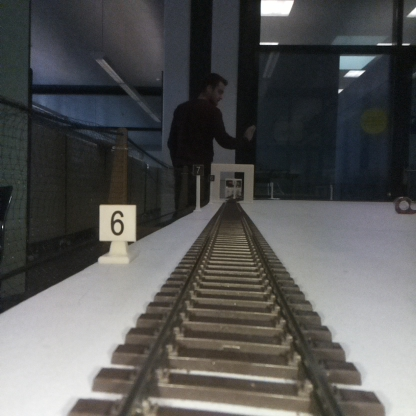black-info-7: (193, 163, 204, 211)
white-stop-6: (99, 205, 135, 264)
